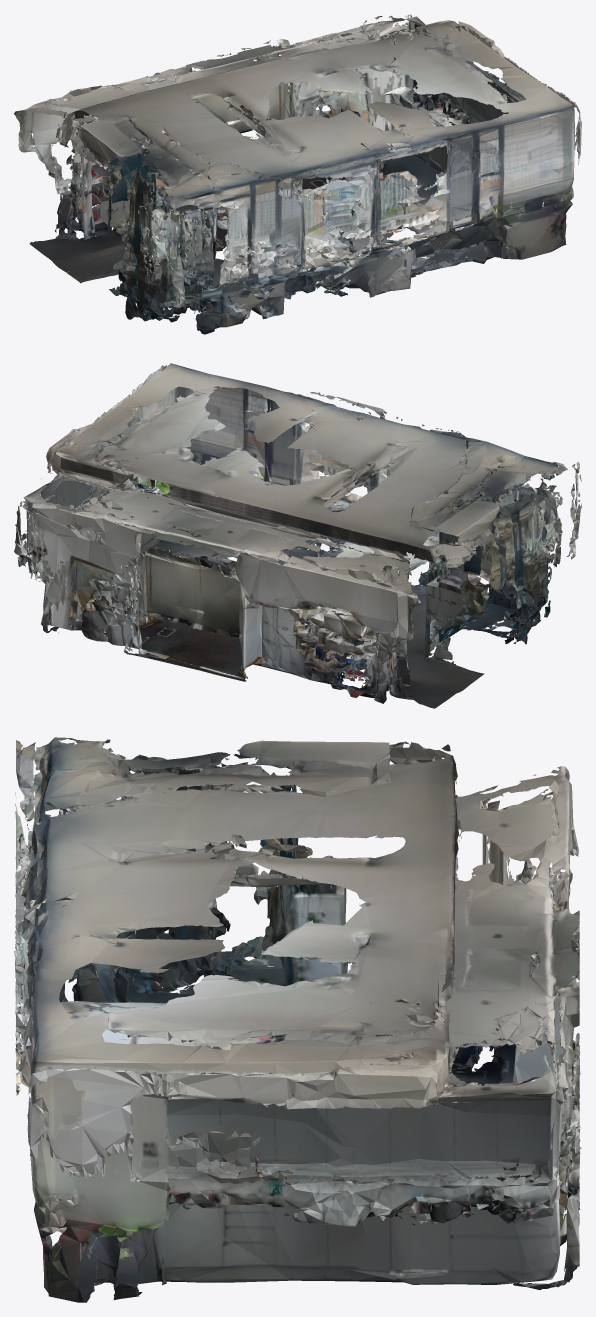
The model's file is Photography_pt3_LOW_POLY.fbx.
3 views of the same model, one above another, from view 1: azimuth 30°, elevation 25°; view 2: azimuth 150°, elevation 25°; view 3: azimuth 270°, elevation 25° (orthographic). The views are drawn at different scales.
Visible parts, largest first — view 1: Photography_pt3_LOW_POLY; view 2: Photography_pt3_LOW_POLY; view 3: Photography_pt3_LOW_POLY.
Part boxes in pixels (<box>): Photography_pt3_LOW_POLY: <box>14,14,581,334</box>; Photography_pt3_LOW_POLY: <box>14,363,581,708</box>; Photography_pt3_LOW_POLY: <box>14,737,581,1302</box>.
Size of the model in its own units: 785 by 286 by 545.
1 material, 1 textured.
